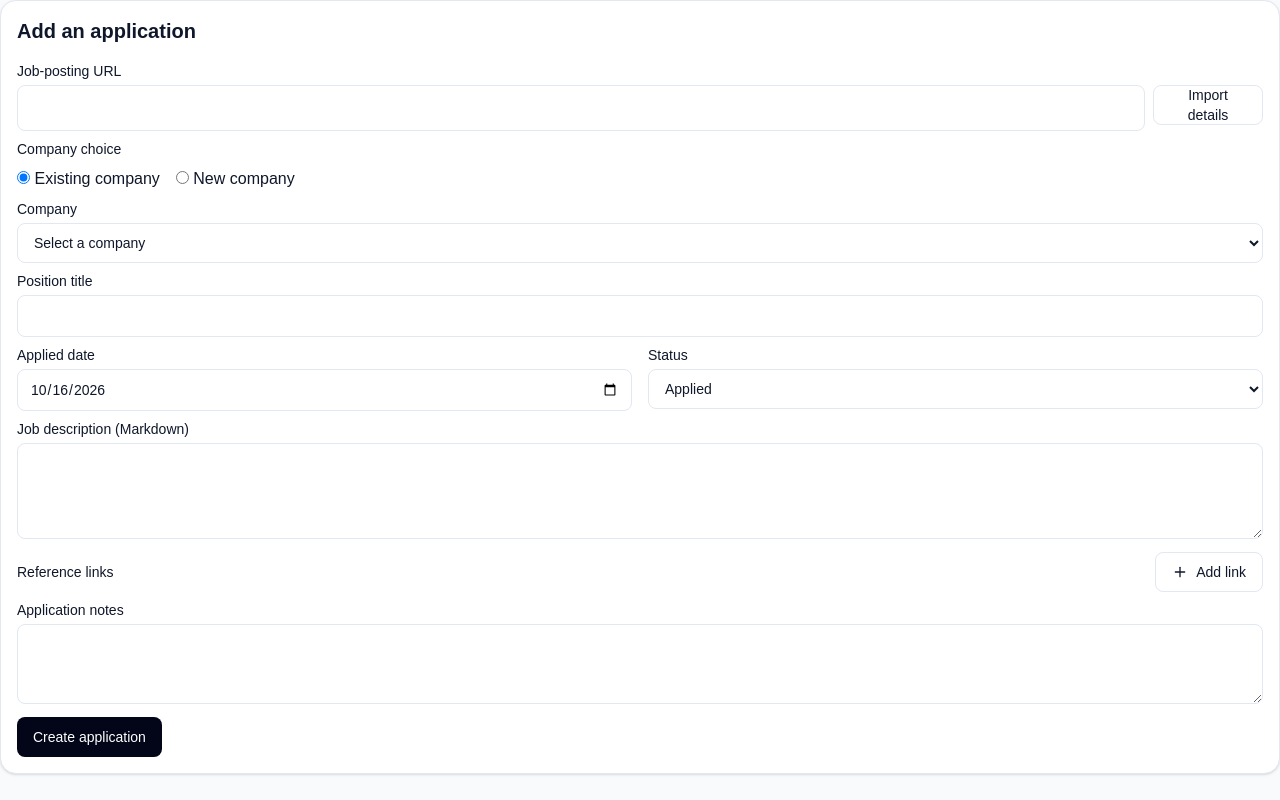
Test: CreateApplicationForm › rejects an invalid import URL without a request and exposes an accessible error
Type "not a URL" into the field labelled "Job-posting URL". click: (581, 108)
box: [17,85,1145,131]
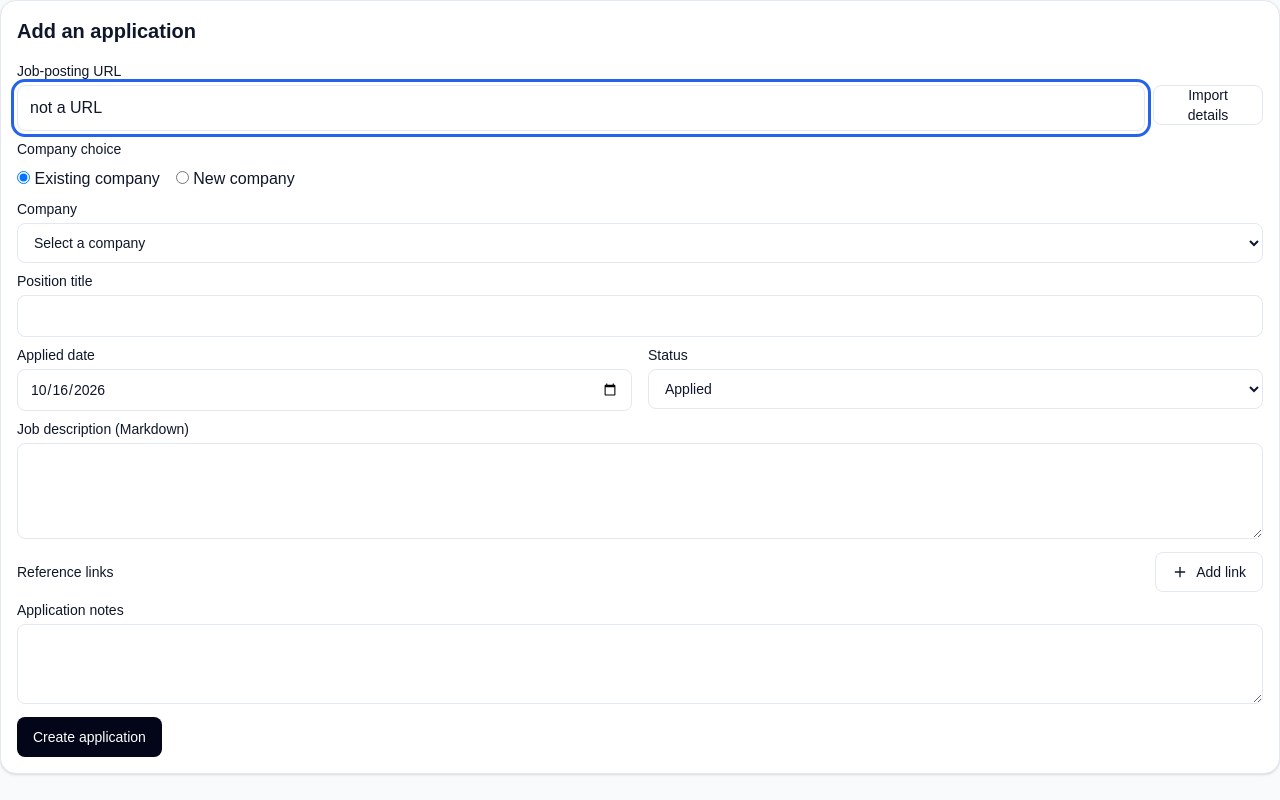
Click the button "Import details". click: (1208, 105)
box: [1153,85,1263,125]
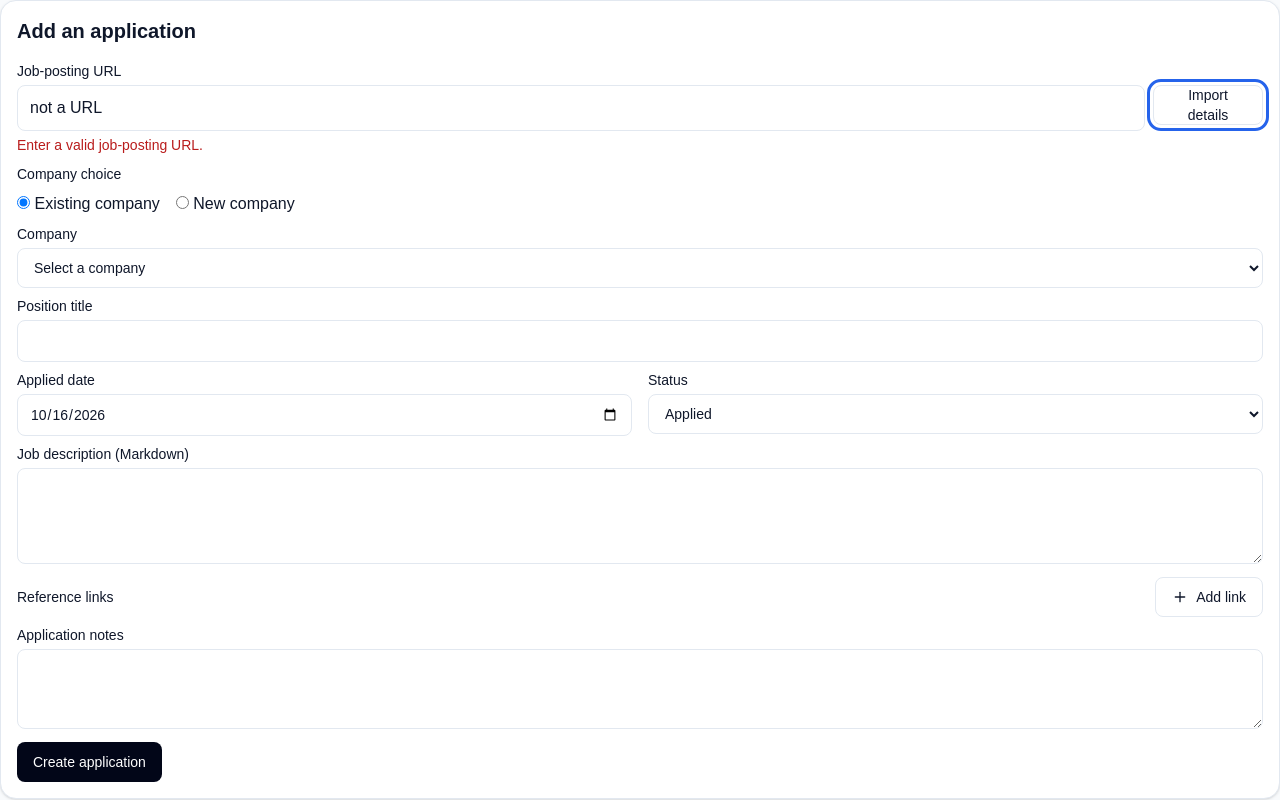
Now the message reads "Enter a valid job-posting URL.", box [17,137,203,153]
